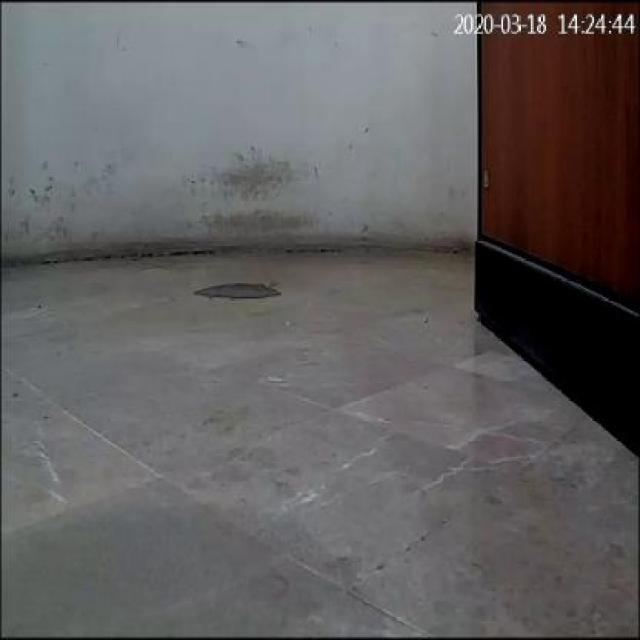spill: (194, 277, 278, 297)
